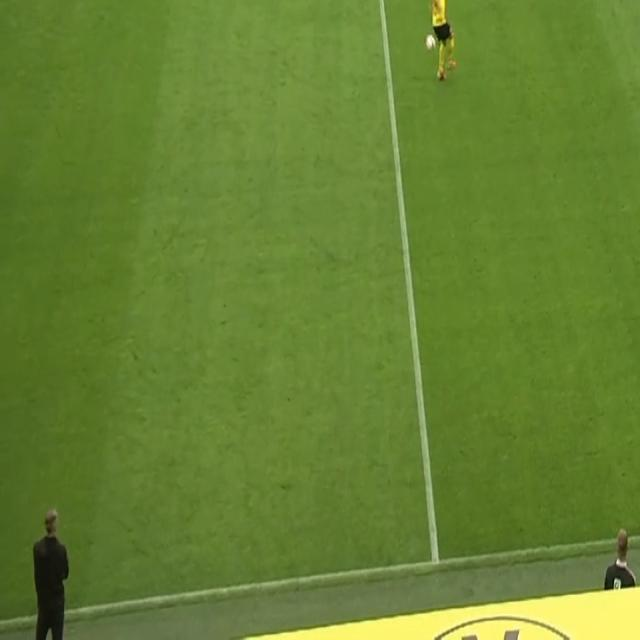ball: (423, 32, 437, 54)
